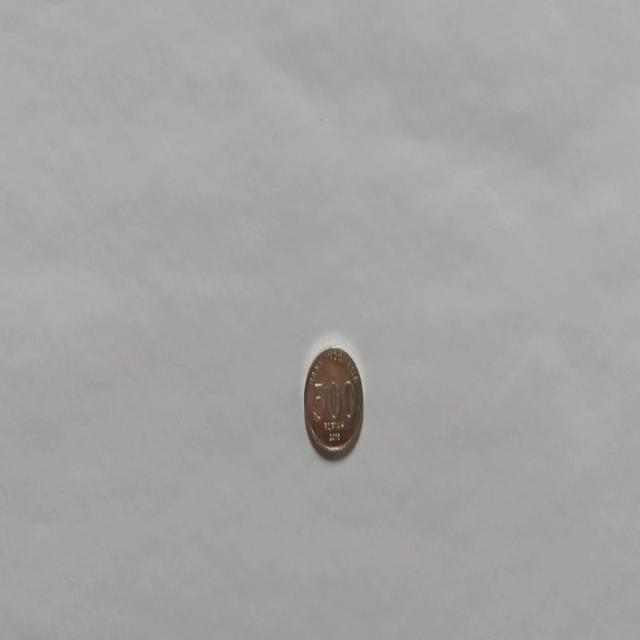lima ratus rupiah: (302, 344, 364, 460)
